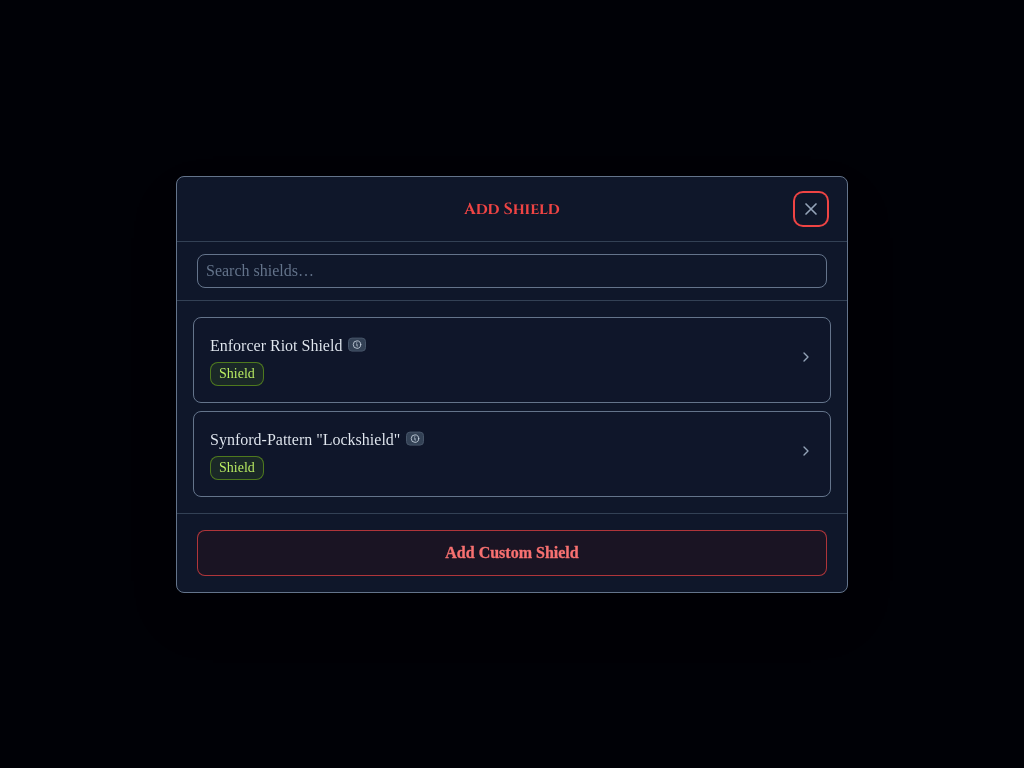
ShieldPicker › starts closed and shows the stats, Qualities, and Rules lines once opened
Expected: the text "AP" is not shown
Click the button named "Expand Synford-Pattern \"Lockshield\" details" at (806, 450), box [794,438,818,462]
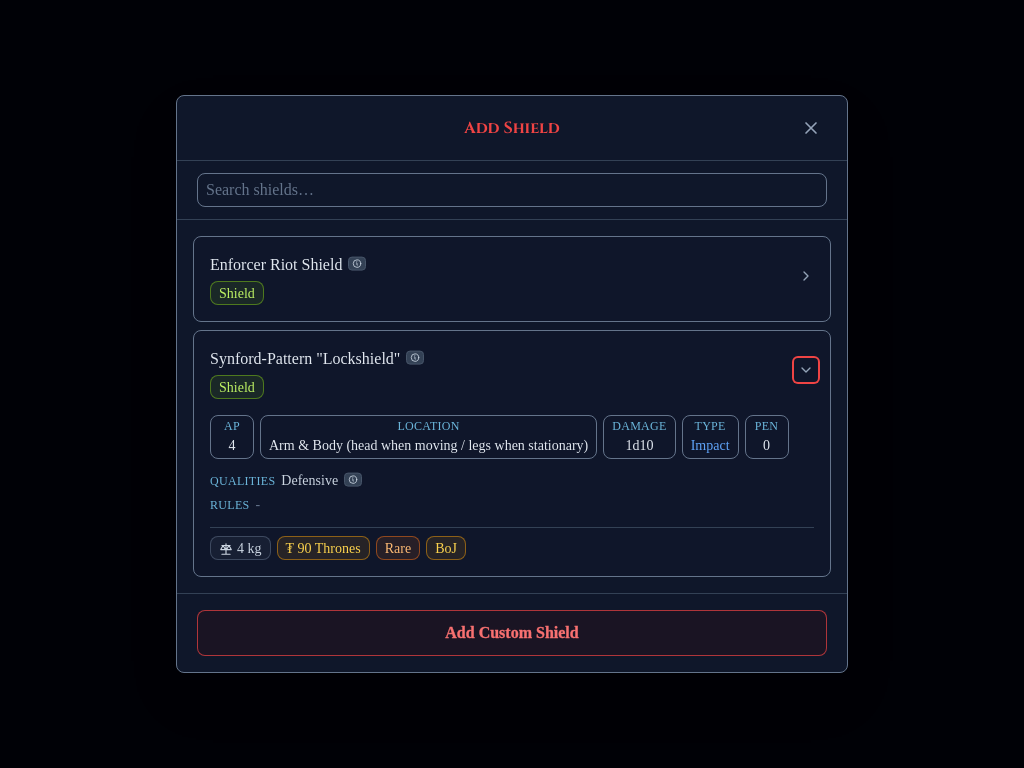
Result: the text "AP" is shown at [224,418,240,434]
Result: the text "Location" is shown at [397,418,460,434]
Result: the text "Damage" is shown at [612,418,667,434]
